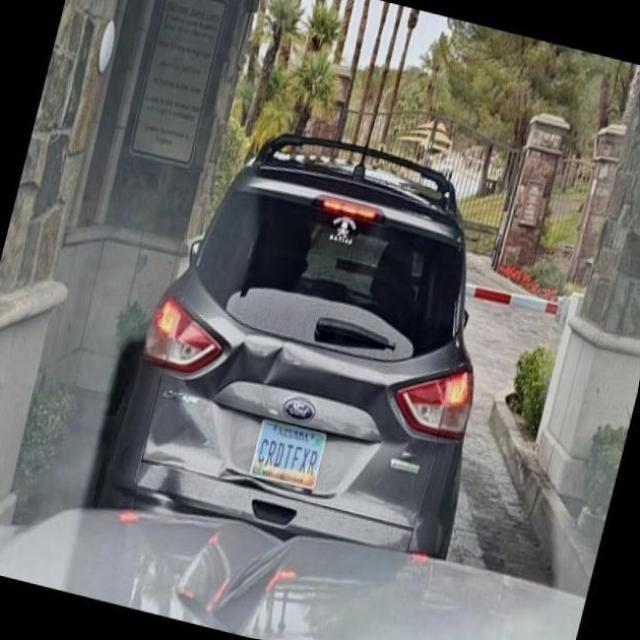license-plate: (247, 426, 336, 489)
